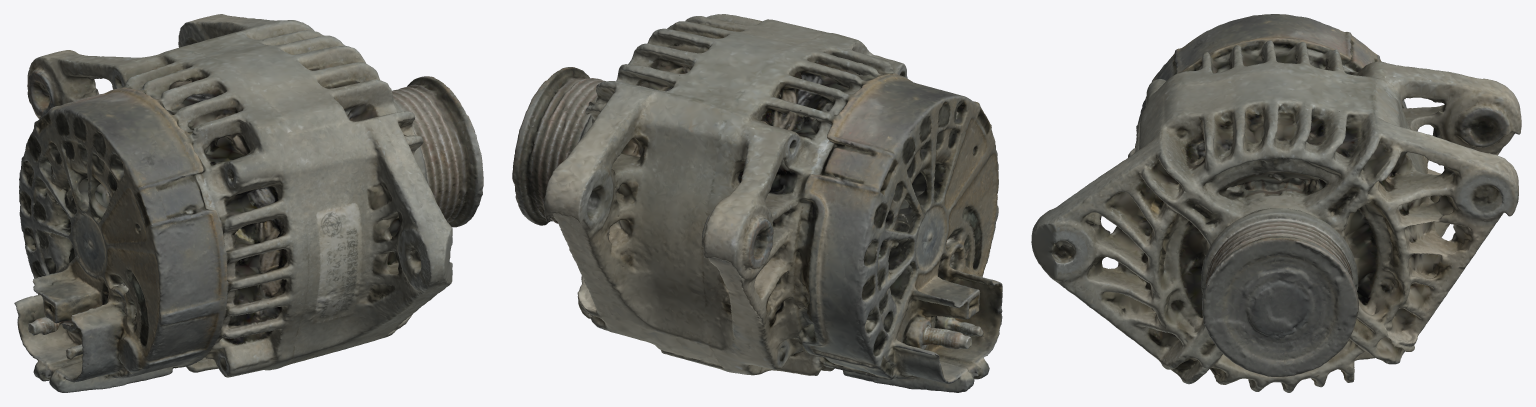
The model's file is service-alternator.glb.
3 views of the same model, side by side, from view 1: azimuth 30°, elevation 25°; view 2: azimuth 150°, elevation 25°; view 3: azimuth 270°, elevation 25° (orthographic). The views are drawn at different scales.
Parts seen in each view (by area): view 1: Object_2; view 2: Object_2; view 3: Object_2.
Part boxes in pixels (x1=…): Object_2: x1=14, y1=14, x2=483, y2=392; Object_2: x1=512, y1=14, x2=1002, y2=392; Object_2: x1=1031, y1=14, x2=1521, y2=392.
Bounding box in the file's own units: 23.27 × 15.35 × 24.44.
